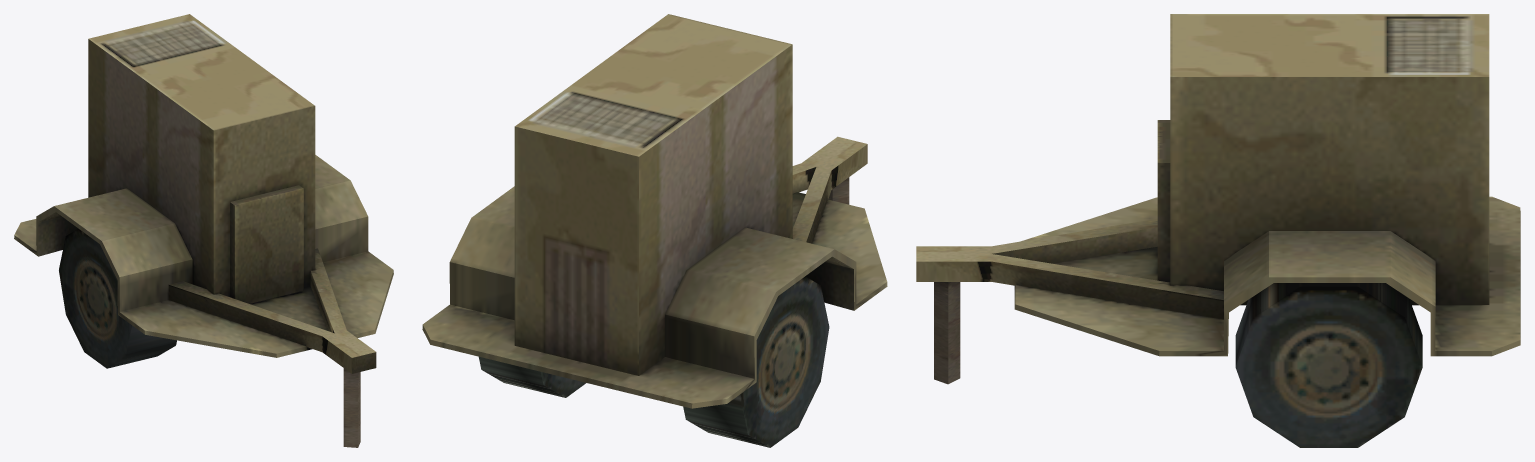
Rendered from Generator.DAE.
The picture shows the model from 3 angles, left to right: view 1: azimuth 30°, elevation 25°; view 2: azimuth 150°, elevation 25°; view 3: azimuth 270°, elevation 25°; orthographic projection. The views are drawn at different scales.
Visible parts, largest first — view 1: _1180_Generator; view 2: _1180_Generator; view 3: _1180_Generator.
Boxes of the visible parts, x1,y1,x2,y2 form: _1180_Generator: [14, 14, 393, 447]; _1180_Generator: [422, 14, 887, 447]; _1180_Generator: [916, 14, 1520, 447].
Size of the model in its own units: 911 by 917 by 1507.
1 material, 1 textured.
